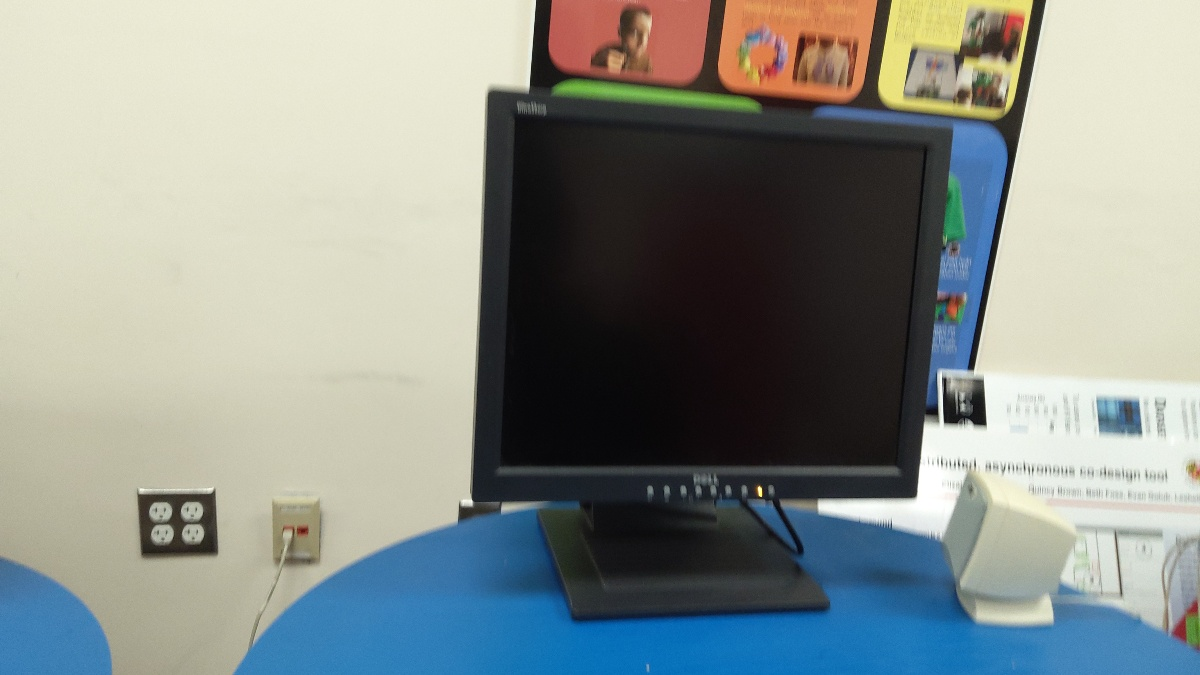monitor: (461, 85, 958, 506)
